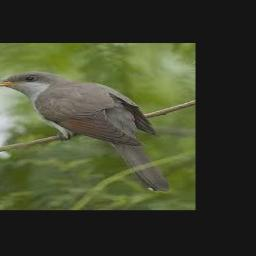Cuckoo: (0, 71, 169, 193)
